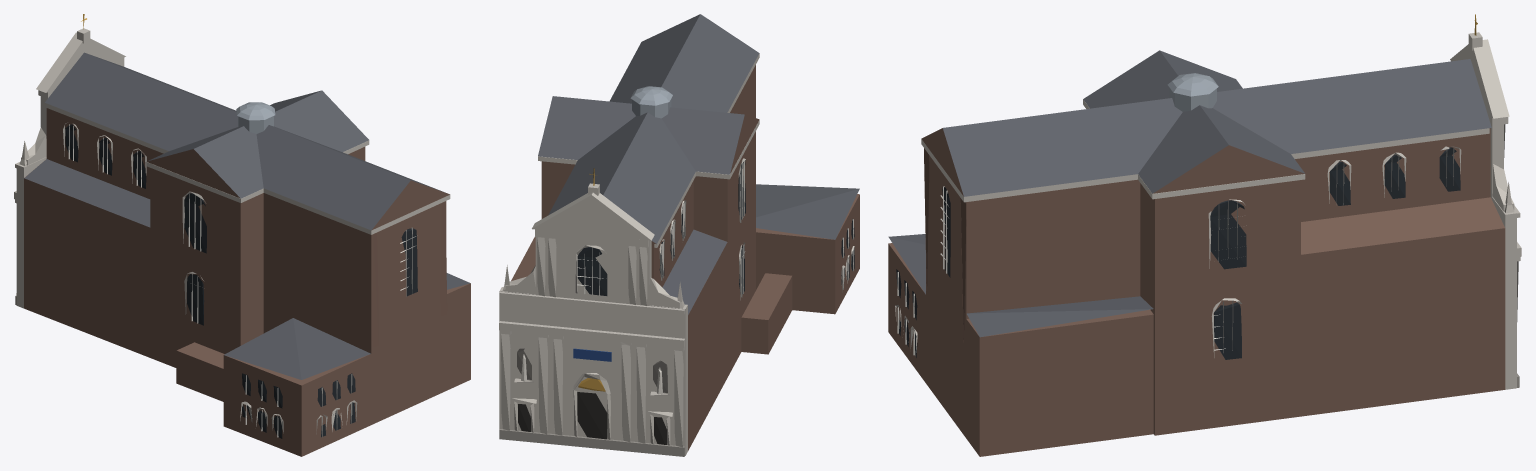
Rendered from de-duif.lod1.glb.
3 renders of one model, left to right at view 1: azimuth 30°, elevation 25°; view 2: azimuth 150°, elevation 25°; view 3: azimuth 270°, elevation 25°, orthographic. The views are drawn at different scales.
Visible parts, largest first — view 1: de-duif; view 2: de-duif; view 3: de-duif.
Boxes of the visible parts, bbox=[...] form: de-duif: bbox=[14, 14, 470, 456]; de-duif: bbox=[499, 14, 859, 456]; de-duif: bbox=[888, 14, 1521, 456].
Size of the model in its own units: 31.13 by 29.7 by 51.8.
